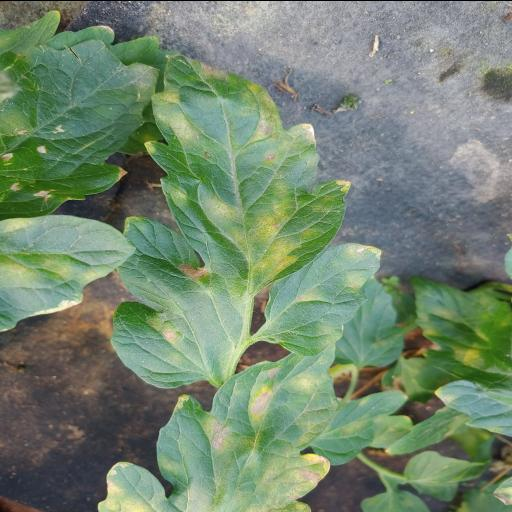Leaf Mold: (108, 53, 352, 388), (96, 341, 340, 512), (262, 240, 384, 358)
